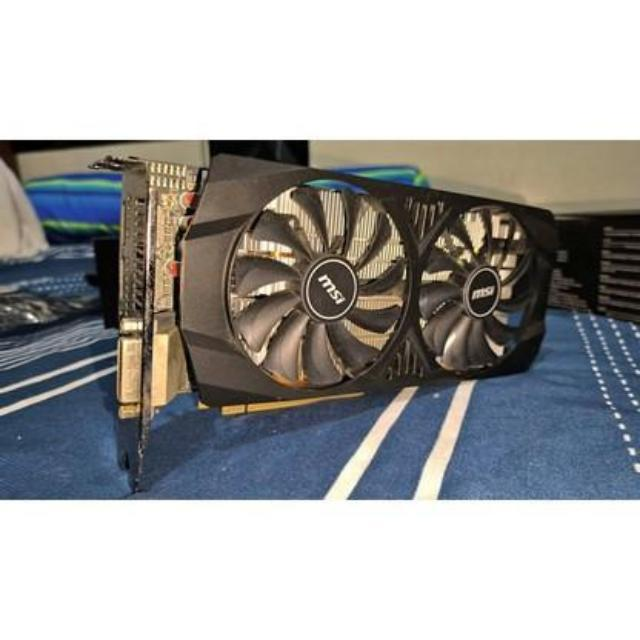GPU: (136, 173, 546, 421)
